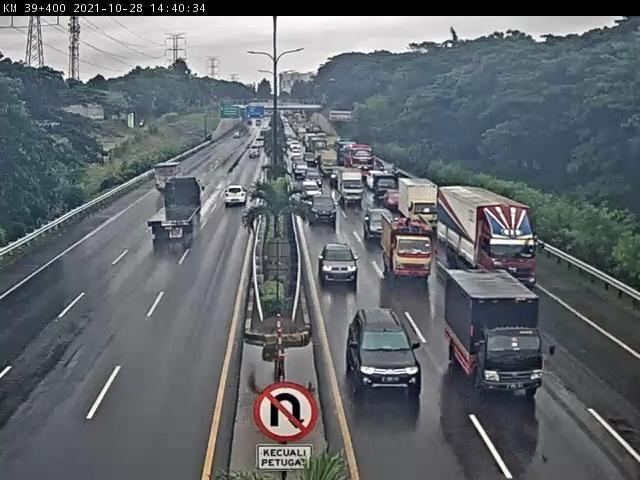car: (349, 309, 422, 389), (319, 244, 361, 283), (364, 207, 396, 239), (311, 196, 339, 227), (223, 191, 248, 211)
truck: (446, 270, 546, 396), (438, 188, 537, 291), (148, 179, 207, 240), (380, 219, 434, 280), (398, 178, 442, 230), (340, 171, 371, 204), (152, 163, 182, 195)
